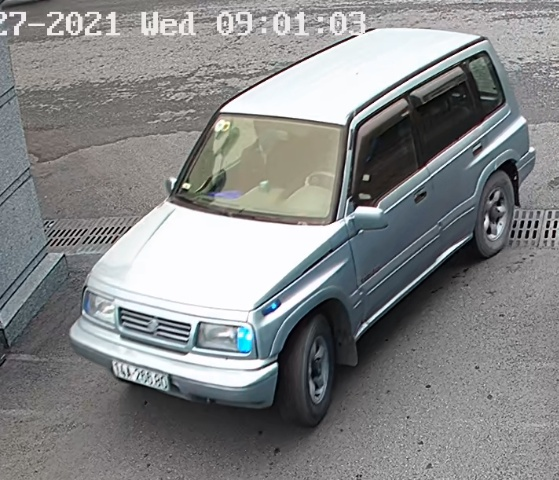vehicle plate: (108, 354, 171, 394)
